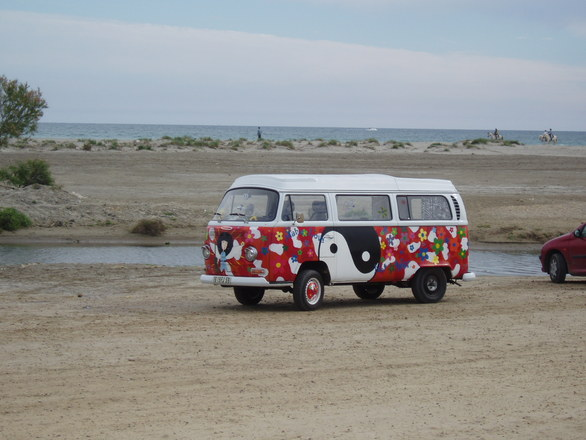car: (538, 220, 586, 284)
van: (200, 173, 476, 312)
